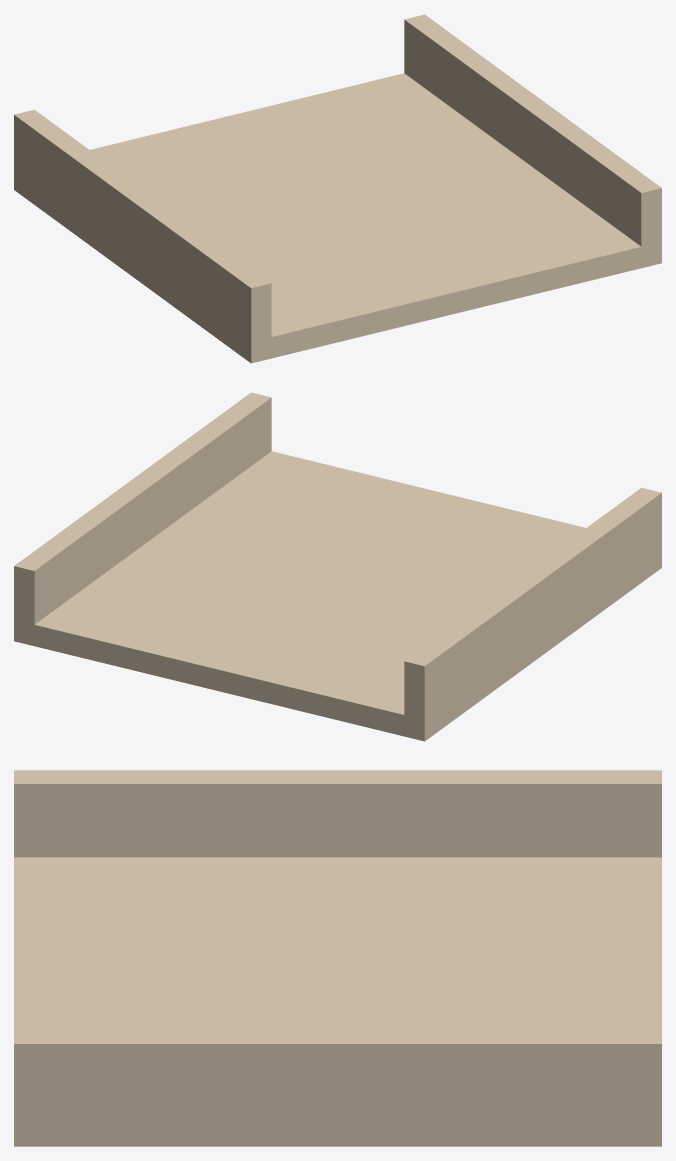
The model's file is CreamRoof_2Edges.glb.
3 renders of one model, top to bottom at view 1: azimuth 30°, elevation 25°; view 2: azimuth 150°, elevation 25°; view 3: azimuth 270°, elevation 25°, orthographic. The views are drawn at different scales.
Visible parts, largest first — view 1: roof_flat_2Edges_cream; view 2: roof_flat_2Edges_cream; view 3: roof_flat_2Edges_cream.
Boxes of the visible parts, x1=… form: roof_flat_2Edges_cream: x1=14, y1=14, x2=661, y2=363; roof_flat_2Edges_cream: x1=14, y1=392, x2=661, y2=741; roof_flat_2Edges_cream: x1=14, y1=770, x2=661, y2=1146.
Size of what is drawn, in the model's own units: 4 by 0.7 by 4.
1 material, 1 textured.
